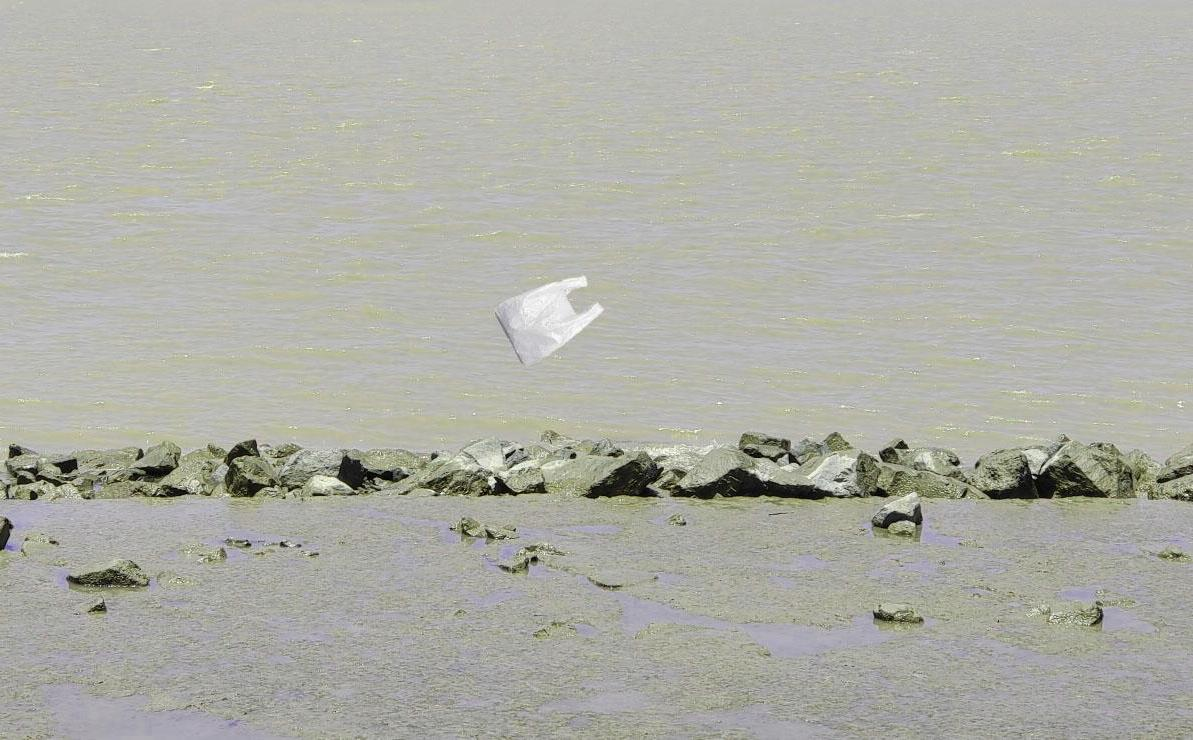Trash: (493, 271, 603, 367)
